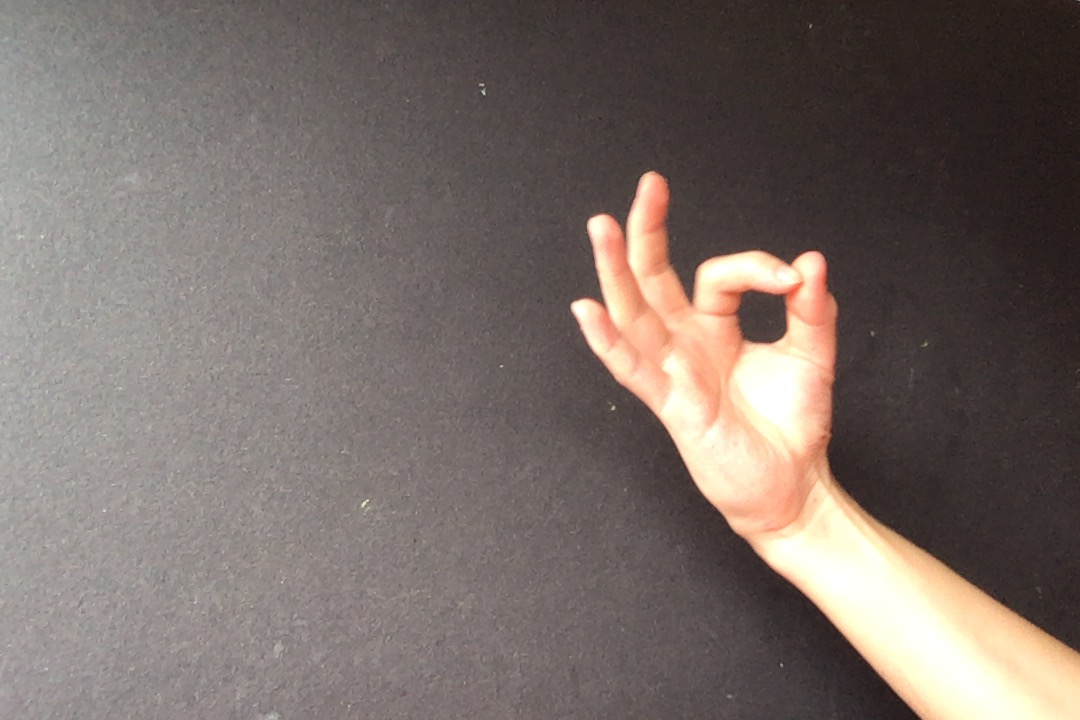oksign: (563, 164, 844, 522)
